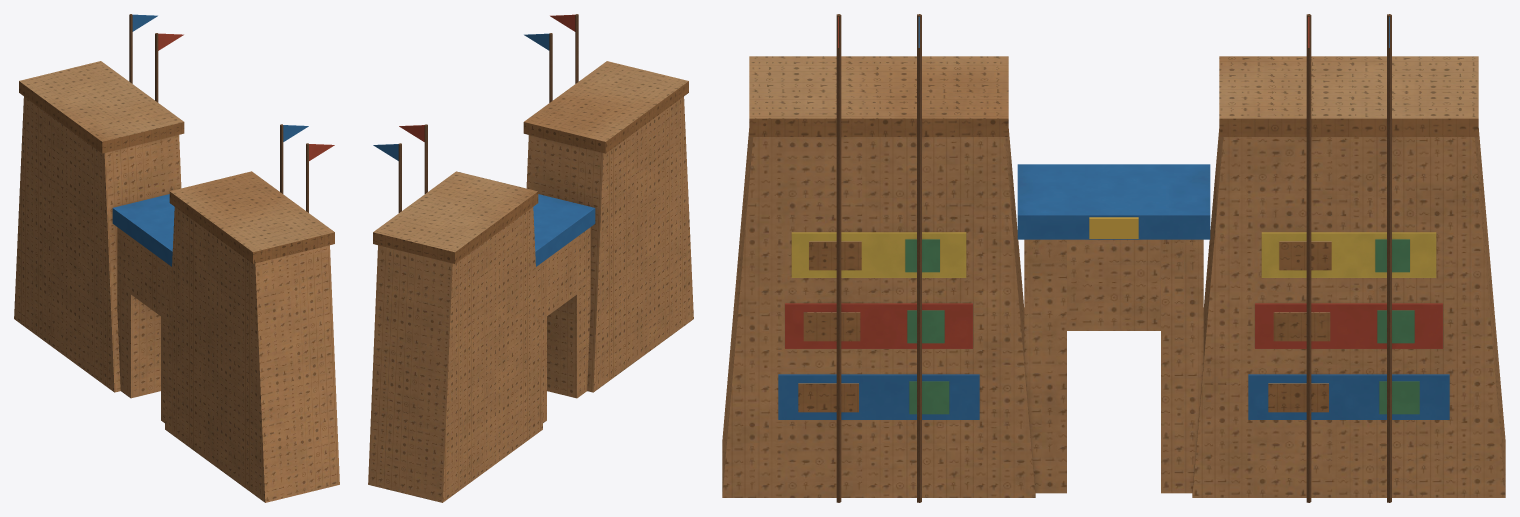
Rendered from pylon_tex.glb.
The picture shows the model from 3 angles, left to right: view 1: azimuth 30°, elevation 25°; view 2: azimuth 150°, elevation 25°; view 3: azimuth 270°, elevation 25°; orthographic projection. The views are drawn at different scales.
Parts seen in each view (by area): view 1: pylon; view 2: pylon; view 3: pylon.
Part boxes in pixels (x1=…): pylon: x1=14, y1=14, x2=339, y2=502; pylon: x1=368, y1=14, x2=693, y2=502; pylon: x1=722, y1=14, x2=1505, y2=502.
Size of the model in its own units: 8.9 by 24 by 35.
8 materials, 7 textured.
